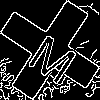M: (25, 25, 85, 86)
